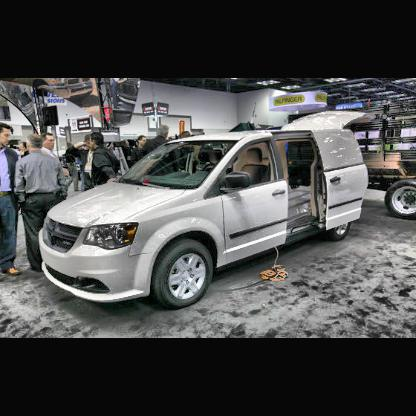Ram C-V Cargo Van Minivan 2012: (40, 110, 375, 312)
